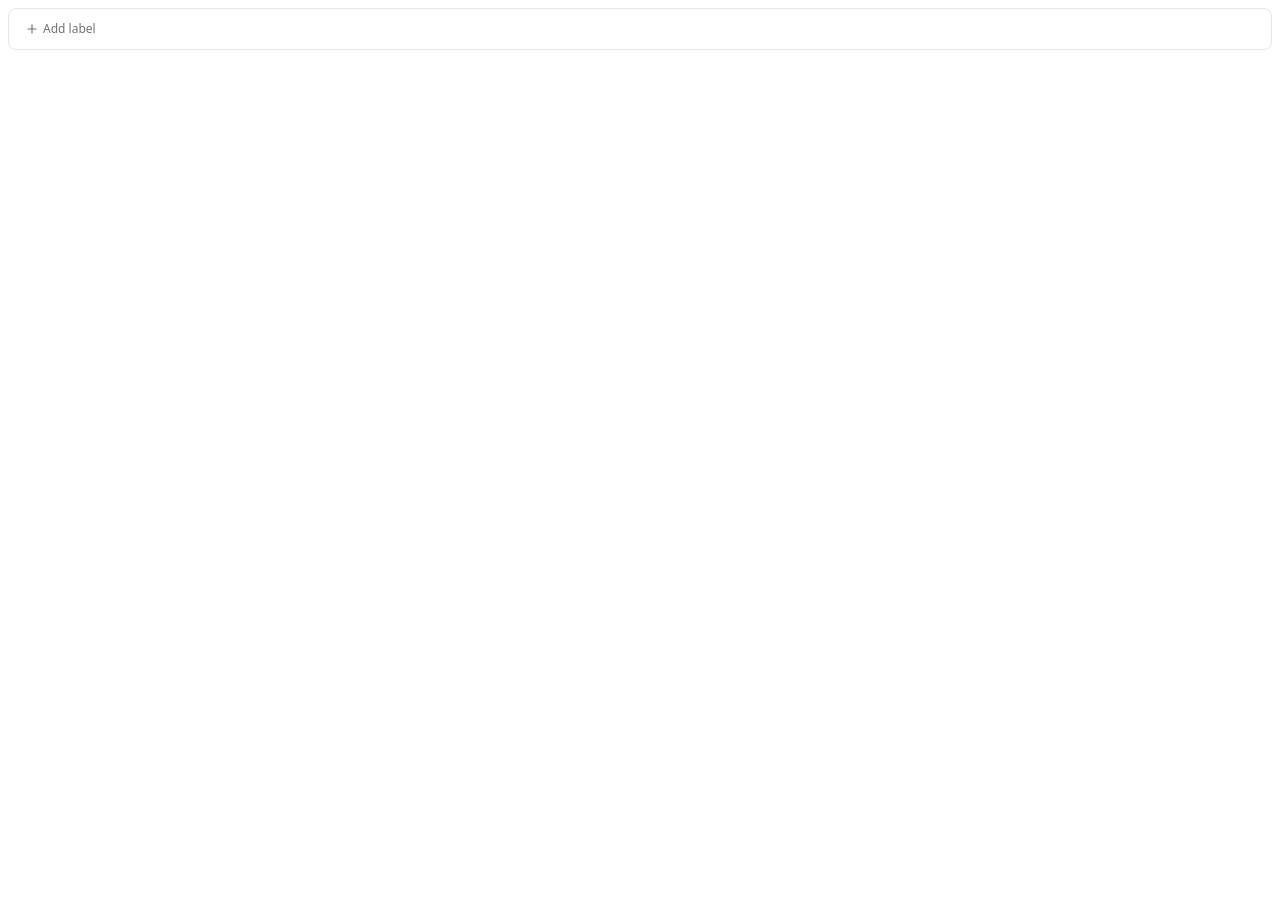
Test: LabelContent › Rendering Modes › renders in popover mode when specified
What coordinates should you click on to do the following:
click the button "Add label"
I would click on:
 (60, 29)
Its box is [17,15,104,43].
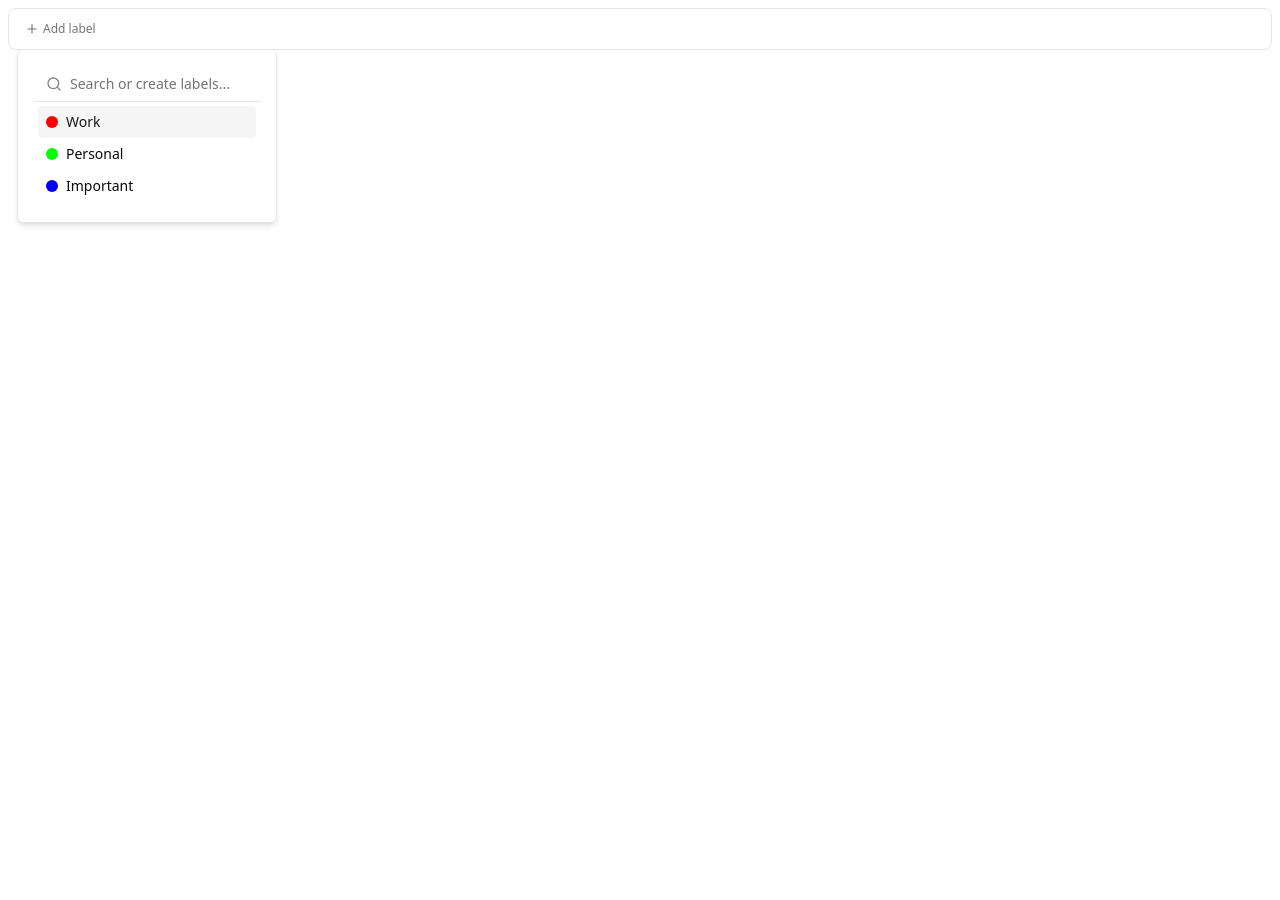
Now the dropdown with test id "label-input" is shown, box [70,66,248,104]
